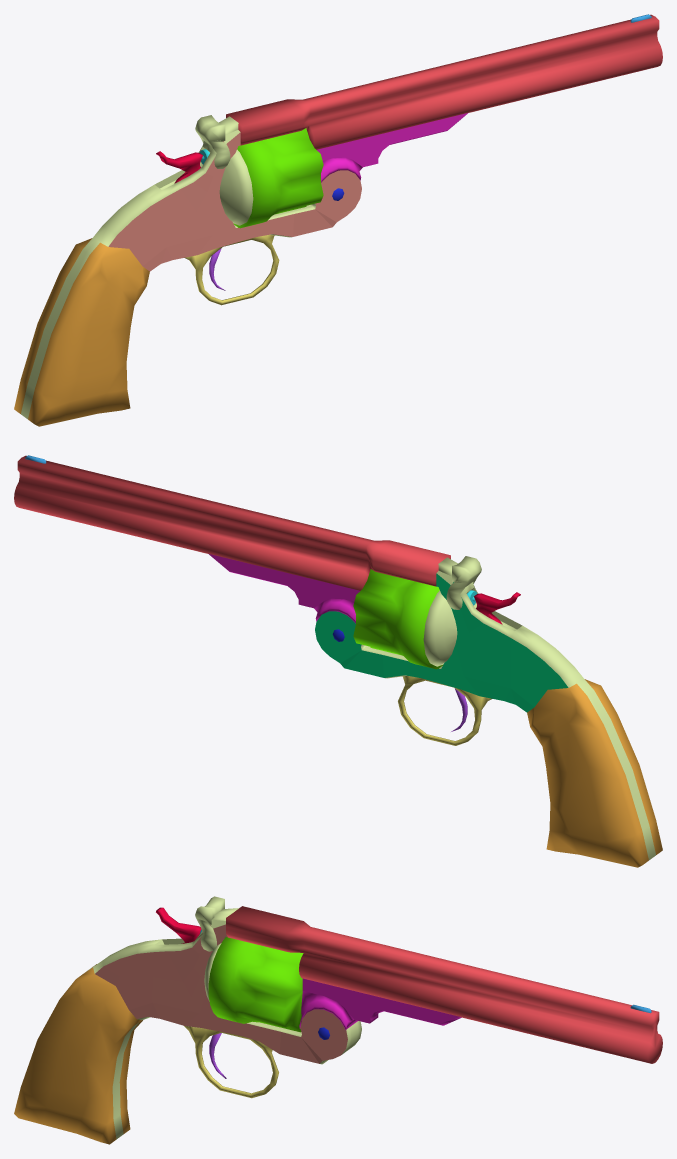
The model's file is schofield.gltf.
3 renders of one model, top to bottom at view 1: azimuth 30°, elevation 25°; view 2: azimuth 150°, elevation 25°; view 3: azimuth 330°, elevation 25°, orthographic.
Visible parts, largest first — view 1: Plane.001; view 2: Plane.001; view 3: Plane.001.
Boxes of the visible parts, x1,y1,x2,y2 form: Plane.001: (14, 14, 662, 426); Plane.001: (14, 455, 662, 867); Plane.001: (14, 896, 662, 1144).
Bounding box in the file's own units: 4.11 × 1.6 × 0.5213.
